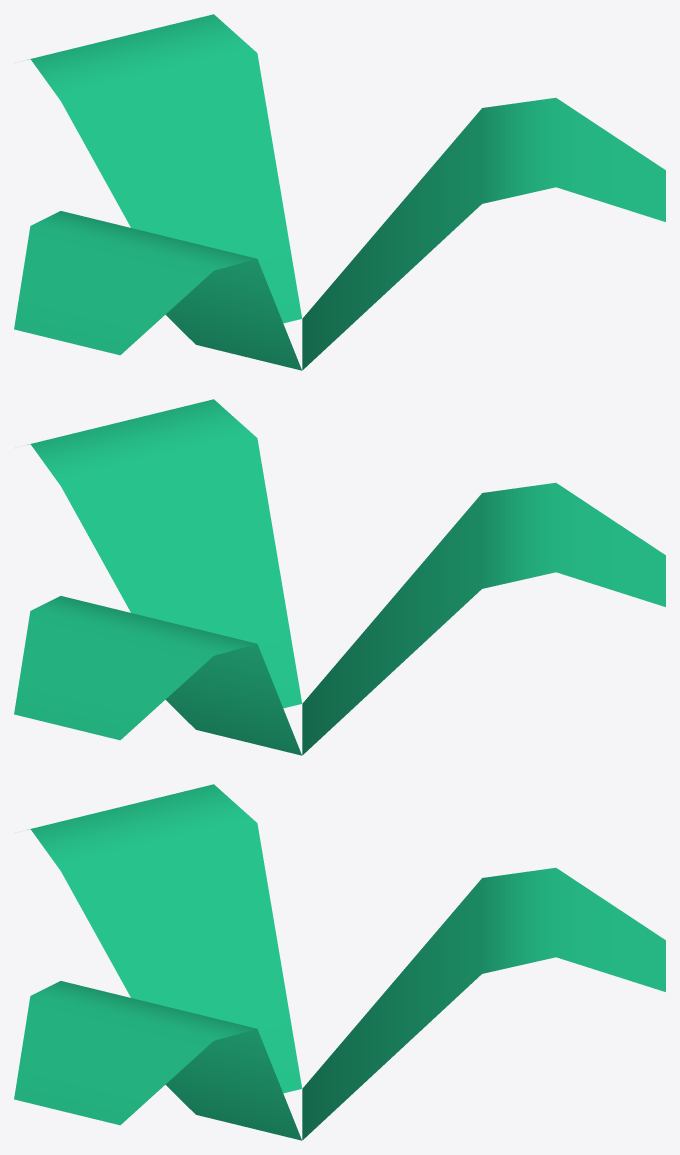
File: plant.fbx
The picture shows the model from 3 angles, top to bottom: view 1: azimuth 30°, elevation 25°; view 2: azimuth 150°, elevation 25°; view 3: azimuth 270°, elevation 25°; orthographic projection.
Parts seen in each view (by area): view 1: plant; view 2: plant; view 3: plant.
Boxes of the visible parts, x1,y1,x2,y2 form: plant: (14,14,665,370); plant: (14,399,665,755); plant: (14,784,665,1140).
Size of the model in its own units: 5.51 by 1.64 by 4.78.
